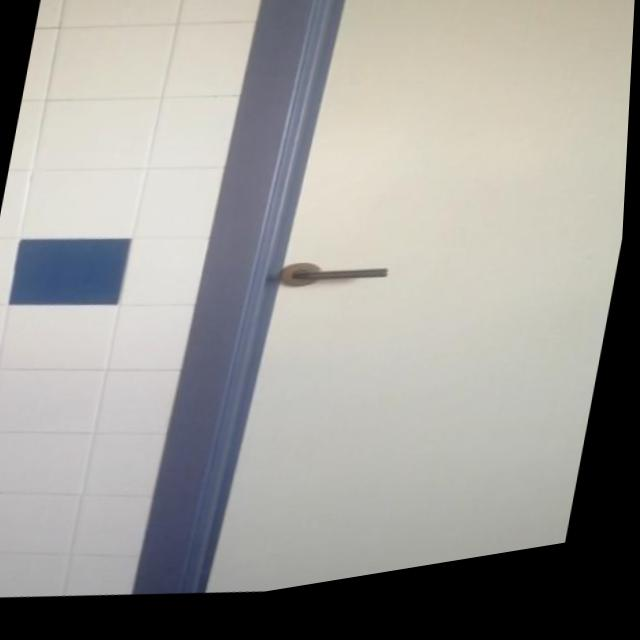door_handle: (284, 264, 398, 310)
